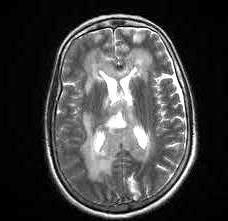Normal_Brain: (1, 1, 224, 221)
